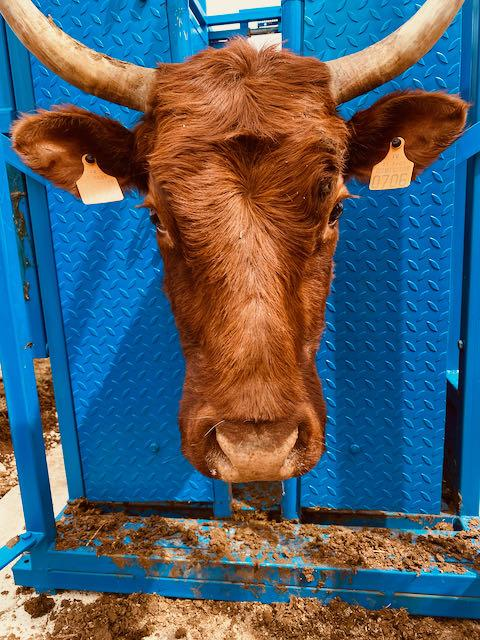muzzles: (189, 408, 320, 483)
